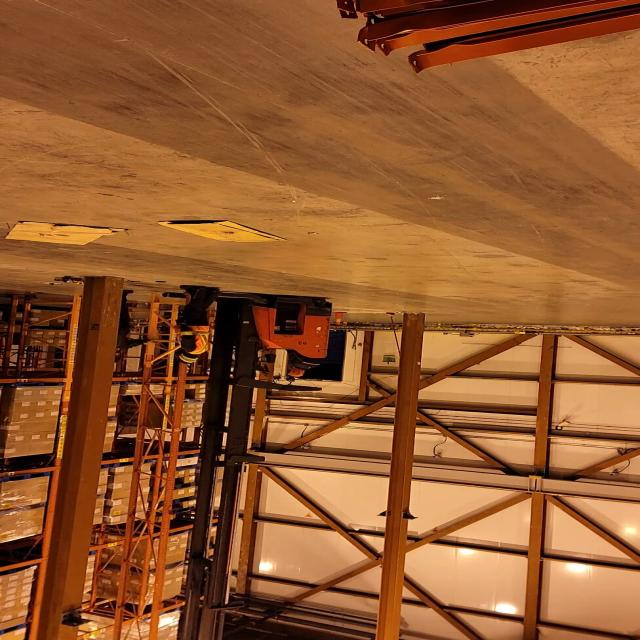forklift: (160, 285, 341, 466)
human: (161, 280, 226, 368), (107, 286, 157, 365), (285, 351, 329, 382)
objectofinterest: (124, 283, 196, 640), (3, 218, 134, 247), (155, 218, 293, 245)
